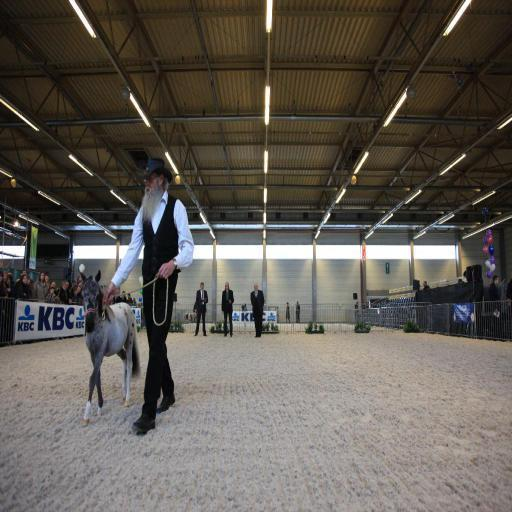horse: (78, 268, 142, 428)
